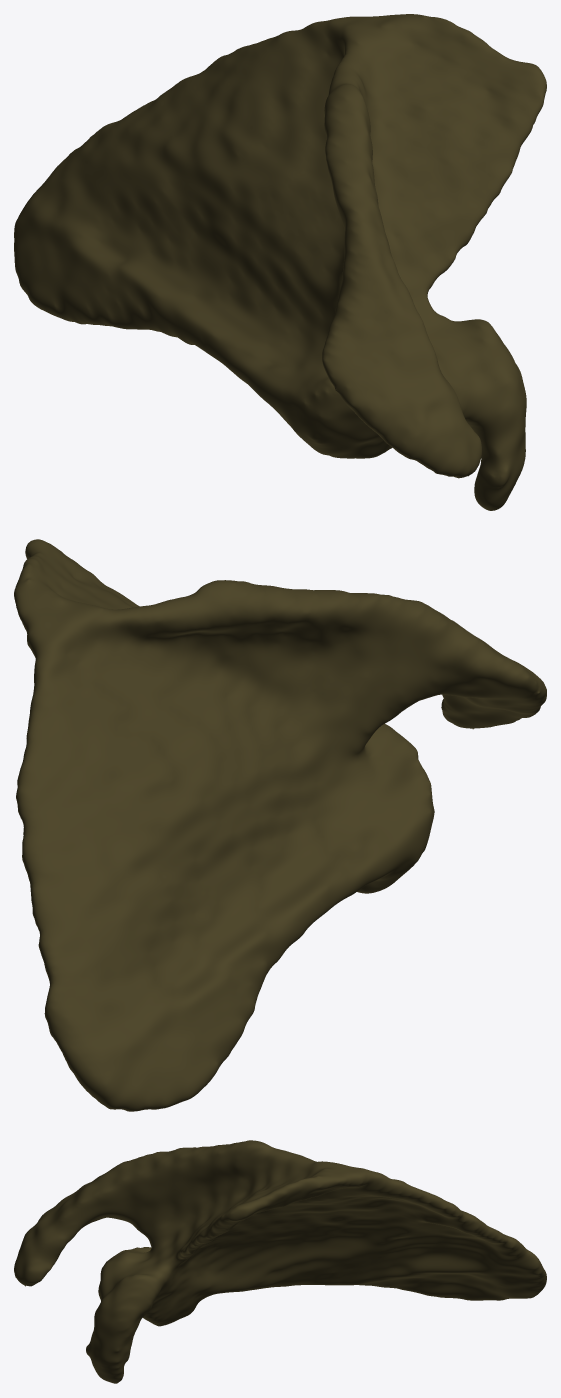
Rendered from right scapula.obj.
3 views of the same model, one above another, from view 1: azimuth 30°, elevation 25°; view 2: azimuth 150°, elevation 25°; view 3: azimuth 270°, elevation 25° (orthographic). The views are drawn at different scales.
Visible parts, largest first — view 1: grp1; view 2: grp1; view 3: grp1.
Boxes of the visible parts, bbox=[...] form: grp1: bbox=[14, 14, 546, 510]; grp1: bbox=[14, 539, 546, 1111]; grp1: bbox=[14, 1140, 546, 1383].
Size of the model in its own units: 99.11 by 102 by 208.
